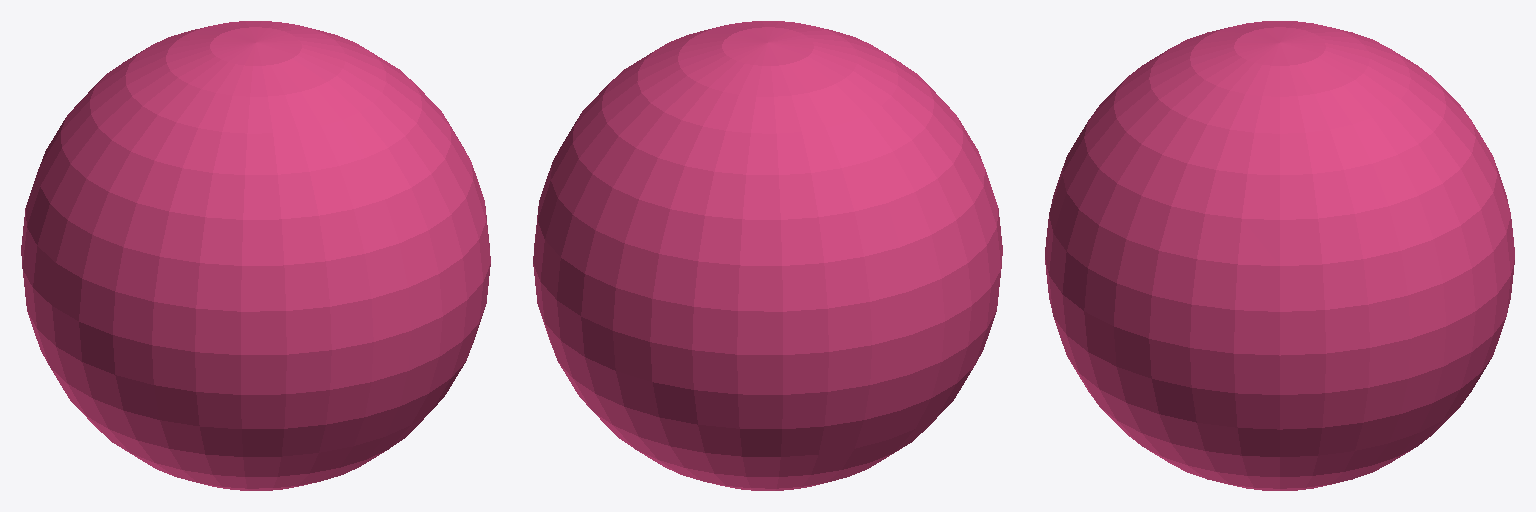
The model's file is Planet_LOWPOLY.obj.
The picture shows the model from 3 angles: view 1: azimuth 30°, elevation 25°; view 2: azimuth 150°, elevation 25°; view 3: azimuth 270°, elevation 25°; orthographic projection.
Visible parts, largest first — view 1: Planet_LOWPOLY; view 2: Planet_LOWPOLY; view 3: Planet_LOWPOLY.
Boxes of the visible parts, x1,y1,x2,y2 form: Planet_LOWPOLY: [21, 21, 490, 490]; Planet_LOWPOLY: [533, 21, 1002, 490]; Planet_LOWPOLY: [1045, 21, 1514, 490].
Bounding box in the file's own units: 69.36 × 69.36 × 69.36.